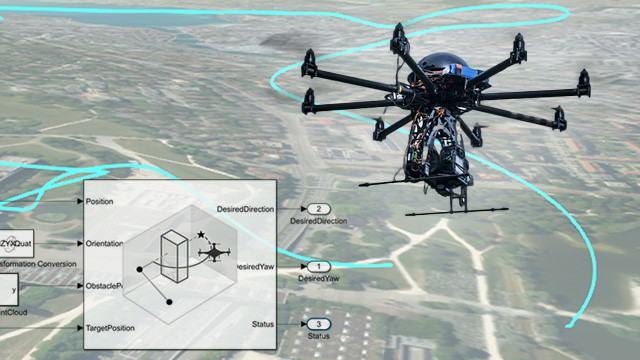maybay_khongnguoilai: (291, 30, 595, 205)
